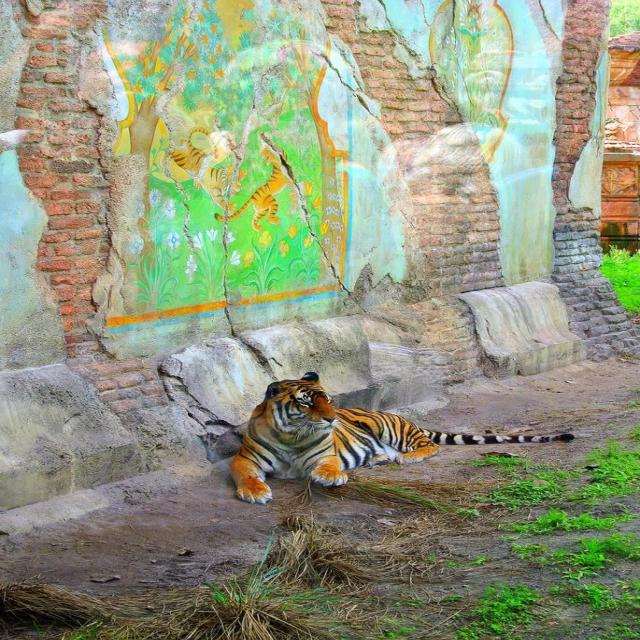Tiger: (227, 368, 577, 506)
